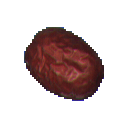gd: (20, 14, 116, 120)
